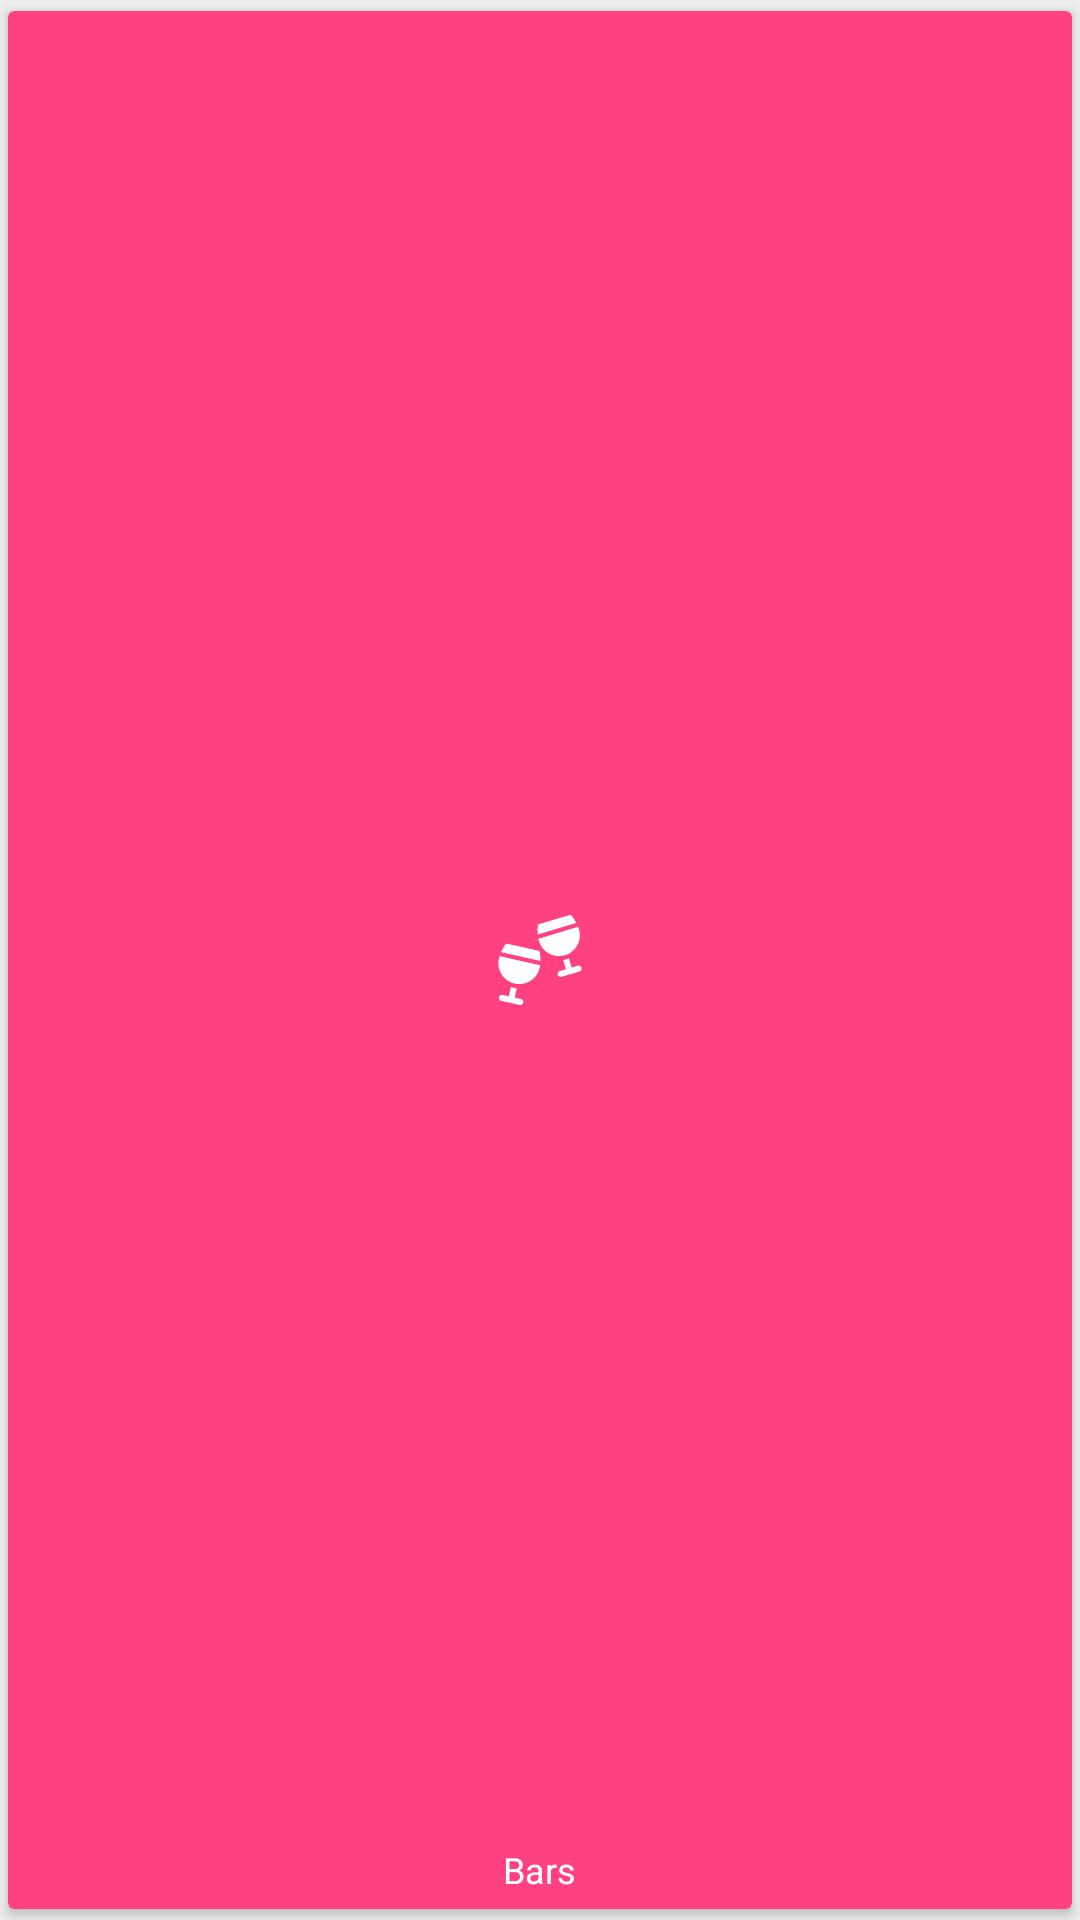

Point at icon controls on the screen. Image size 1080×1920, points as [x,y].
bar: [540,960]
